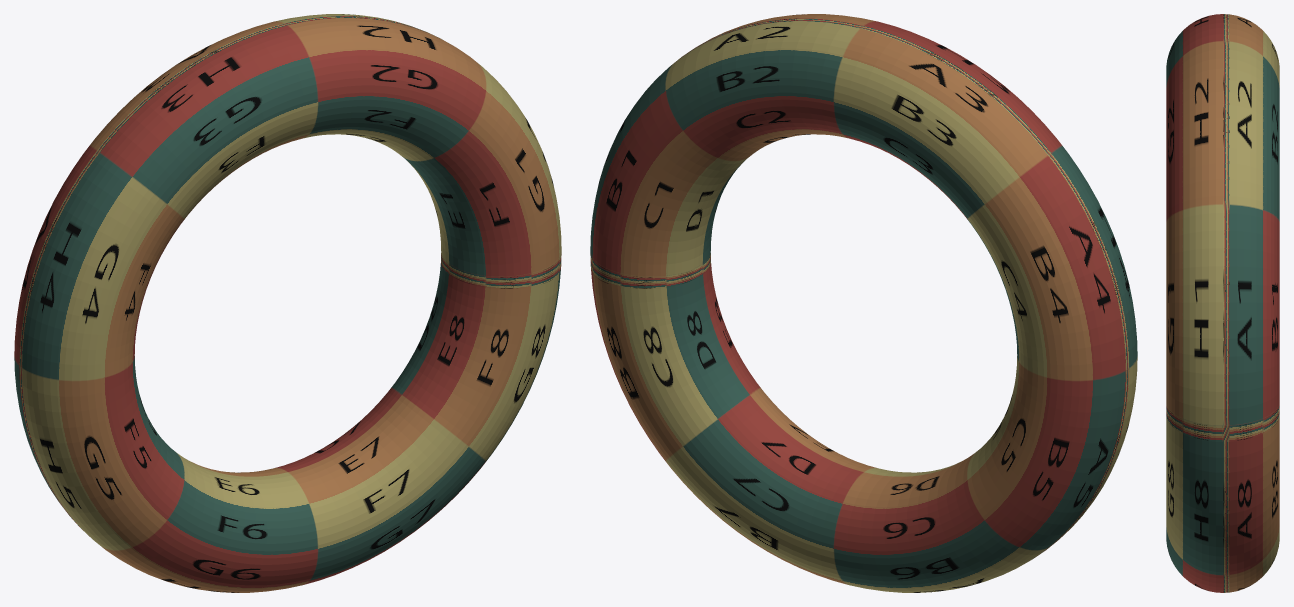
Rendered from texture_torus_R9_r6.glb.
3 views of the same model, side by side, from view 1: azimuth 30°, elevation 25°; view 2: azimuth 150°, elevation 25°; view 3: azimuth 270°, elevation 25° (orthographic). The views are drawn at different scales.
Visible parts, largest first — view 1: world; view 2: world; view 3: world.
Boxes of the visible parts, x1=… form: world: x1=14, y1=14, x2=561, y2=592; world: x1=590, y1=14, x2=1137, y2=592; world: x1=1166, y1=14, x2=1279, y2=592.
Bounding box in the file's own units: 37.33 × 37.33 × 7.32.
1 material, 1 textured.
